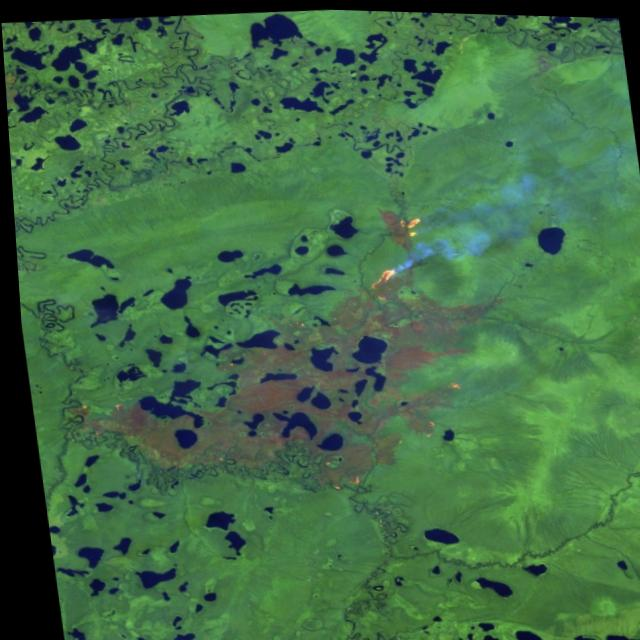fire: (349, 204, 439, 303)
